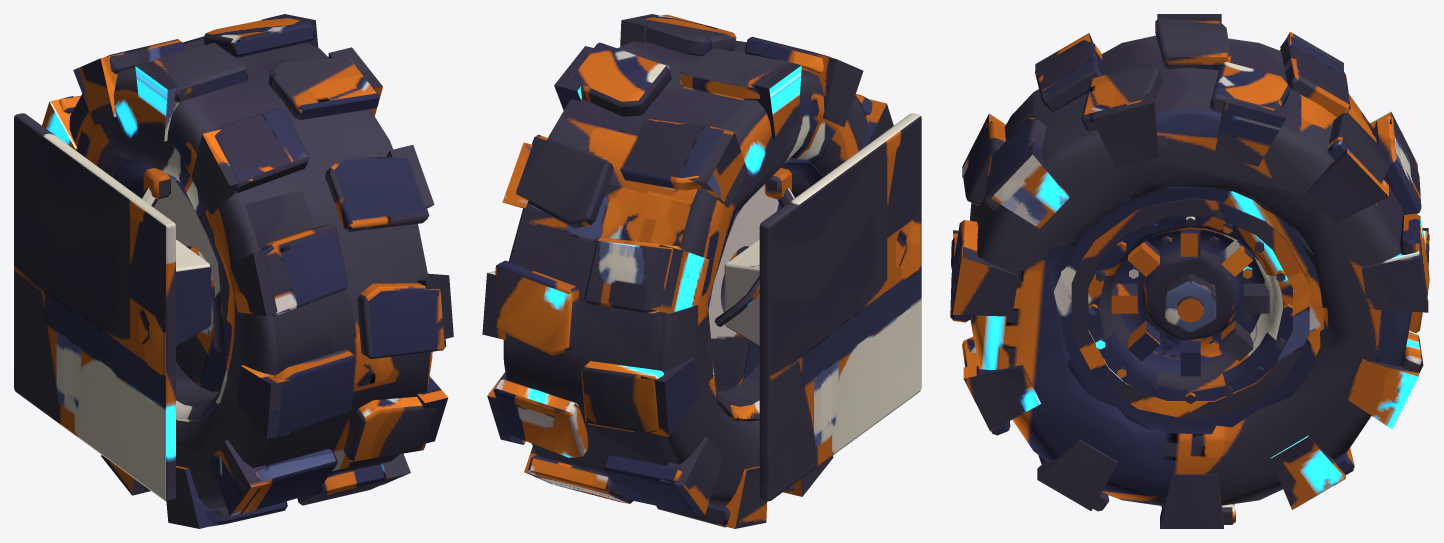
The model's file is R4M_WheelM_Side_Offroad_LOD1.fbx.
3 views of the same model, side by side, from view 1: azimuth 30°, elevation 25°; view 2: azimuth 150°, elevation 25°; view 3: azimuth 270°, elevation 25° (orthographic).
Parts seen in each view (by area): view 1: R4M_WheelM_Side_Offroad_LOD1; view 2: R4M_WheelM_Side_Offroad_LOD1; view 3: R4M_WheelM_Side_Offroad_LOD1.
Boxes of the visible parts, x1,y1,x2,y2 form: R4M_WheelM_Side_Offroad_LOD1: (14, 14, 453, 528); R4M_WheelM_Side_Offroad_LOD1: (482, 14, 921, 528); R4M_WheelM_Side_Offroad_LOD1: (950, 14, 1429, 528).
Size of the model in its own units: 0.4514 by 0.7726 by 0.7771.
